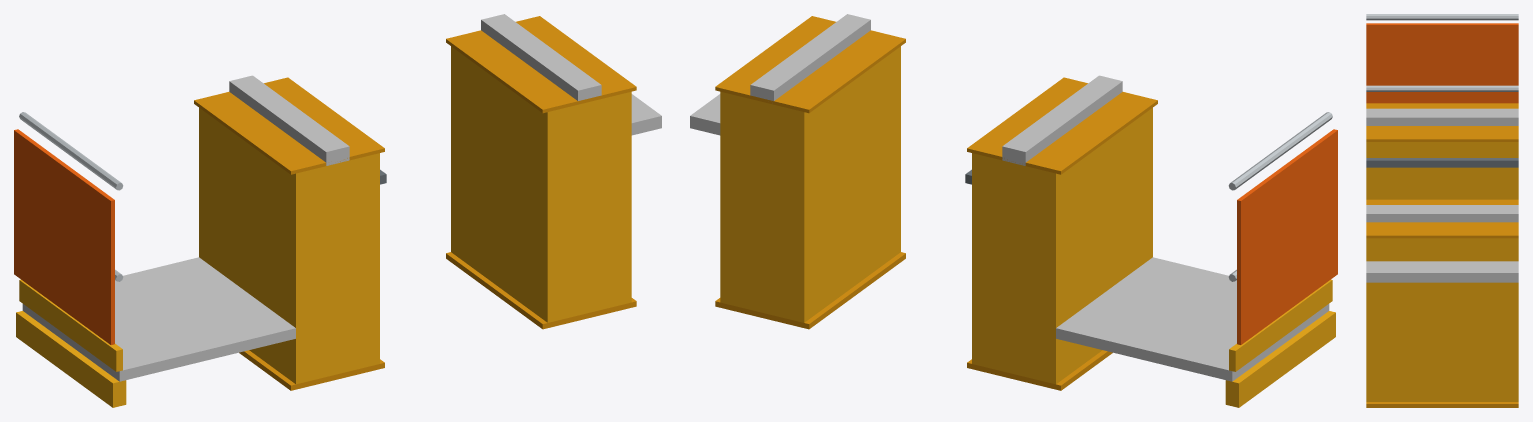
Rendered from body.obj.
The picture shows the model from 3 angles, left to right: view 1: azimuth 30°, elevation 25°; view 2: azimuth 150°, elevation 25°; view 3: azimuth 270°, elevation 25°; orthographic projection. The views are drawn at different scales.
Bounding box in the file's own units: 3.28 × 1.42 × 1.
